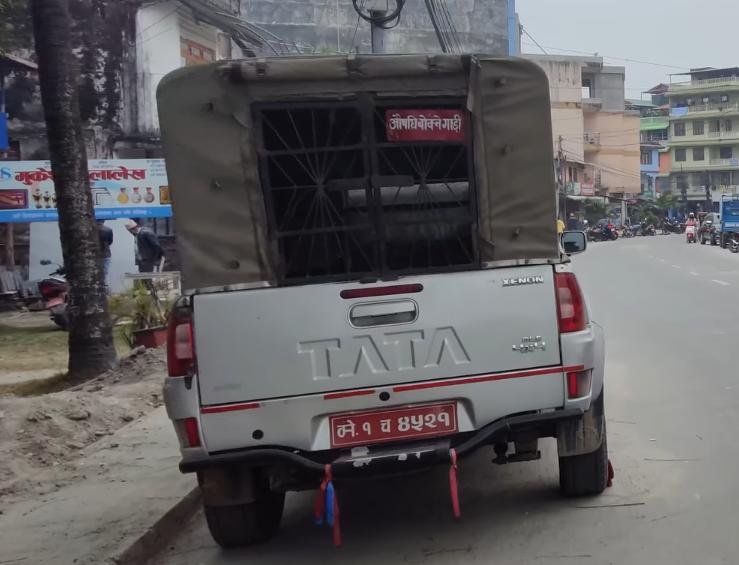transport_vehicle: (156, 46, 628, 543)
